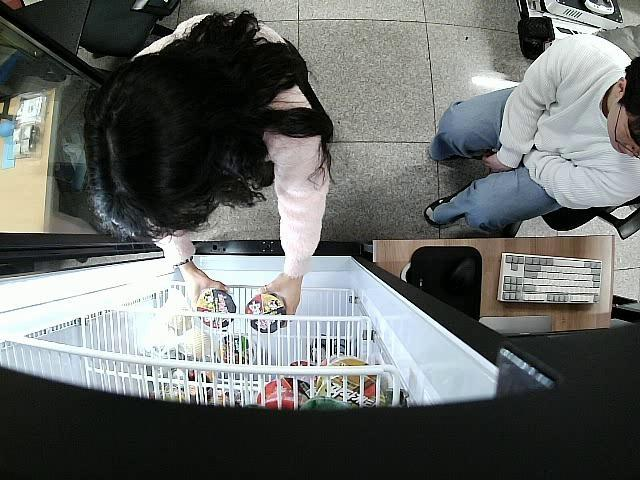08_buldak_S: (244, 292, 286, 333), (196, 288, 236, 330)
